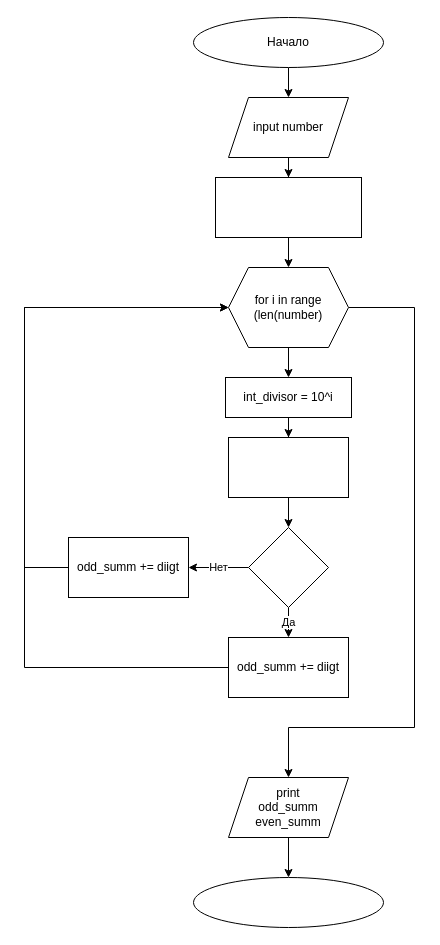
Some shapes in this 440 by 945 pixel diagram are drawn without their labels. Here are the shapes that lost their labels. From the top down, the centre of each, then its label:
At point 288,207: "even_summ = 0 odd_summ = 0 length = len(str(number))".
At point 288,467: "digit = number // int_divisor % 10".
At point 288,567: "digit%2 ==0".
At point 288,902: "Конец".
